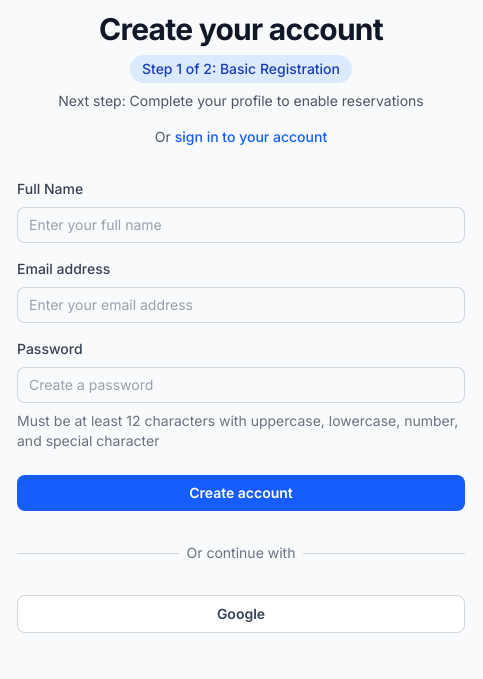
RegisterPage › handles successful registration but failed sign in
Type "Test User" into the field labelled "Full Name" at (241, 225), box [17, 207, 465, 243]
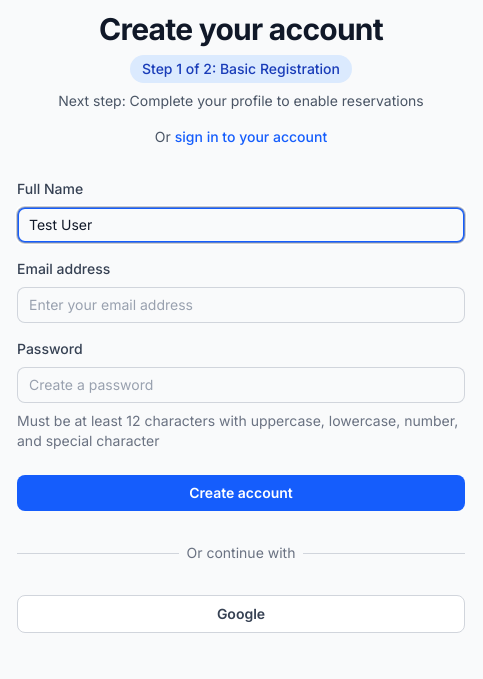
Type "test@example.com" into the field labelled "Email address" at (241, 305), box [17, 287, 465, 323]
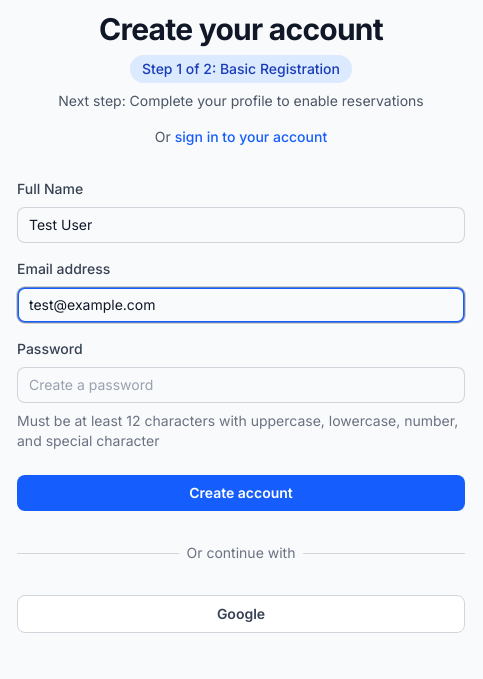
Type "Password123!@#" into the password field labelled "Password" at (241, 385), box [17, 367, 465, 403]
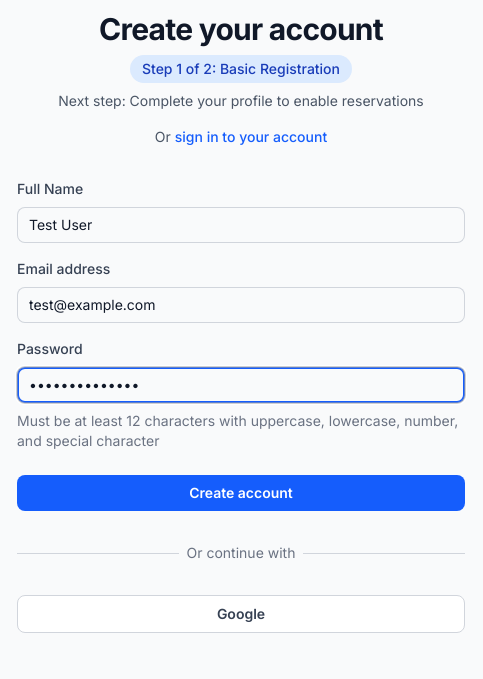
Click the button "Create account" at (241, 493), box [17, 475, 465, 511]
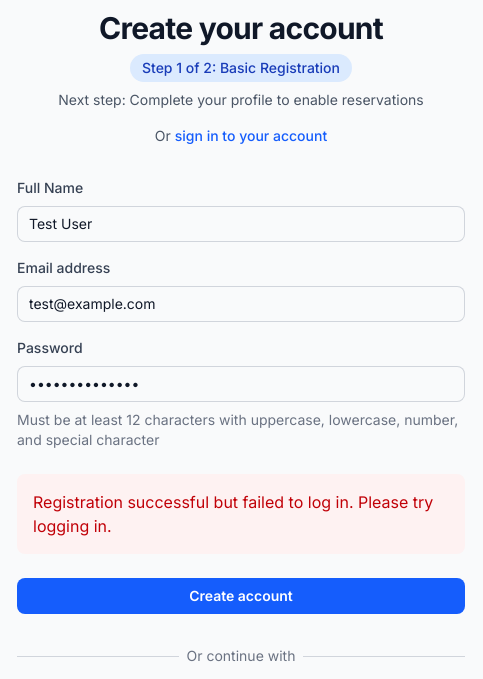
Now the text "Registration successful but failed to log in. Please try logging in." is shown, box [17, 474, 465, 554]
